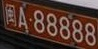A: (19, 7, 28, 29)
